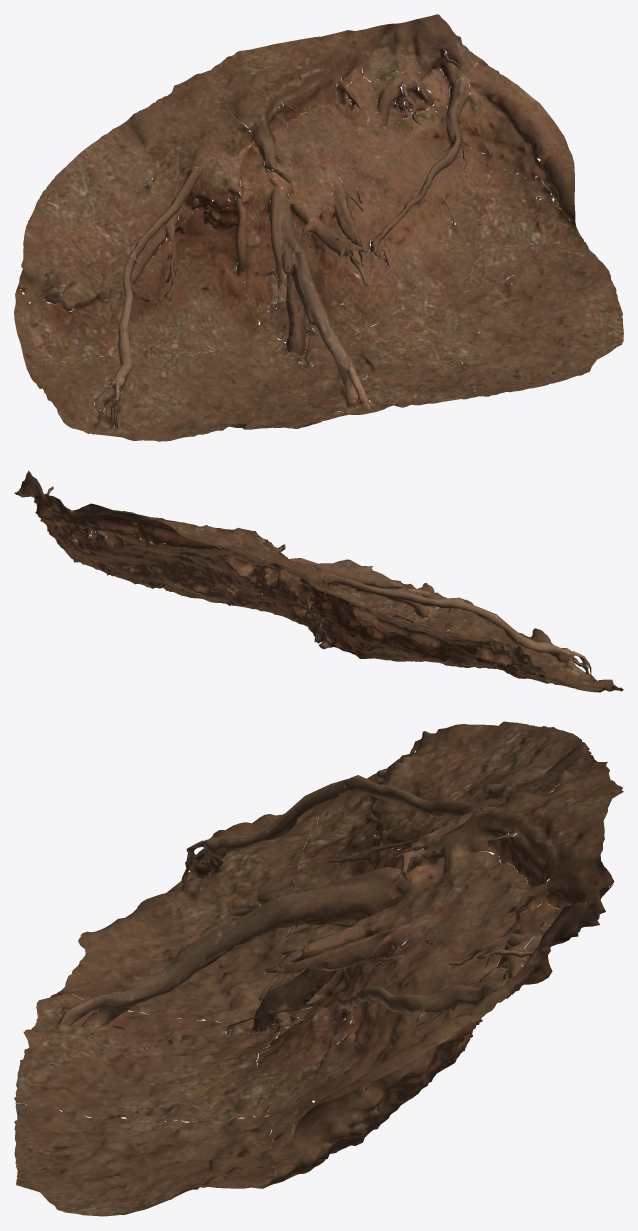
The model's file is cc0_roots.glb.
3 views of the same model, one above another, from view 1: azimuth 30°, elevation 25°; view 2: azimuth 150°, elevation 25°; view 3: azimuth 270°, elevation 25° (orthographic). The views are drawn at different scales.
Visible parts, largest first — view 1: root_cluster_01; view 2: root_cluster_01; view 3: root_cluster_01.
Boxes of the visible parts, x1,y1,x2,y2 form: root_cluster_01: (14, 14, 623, 441); root_cluster_01: (14, 470, 623, 692); root_cluster_01: (14, 721, 623, 1216).
Bounding box in the file's own units: 4.12 × 1.51 × 2.68.
1 material, 1 textured.
